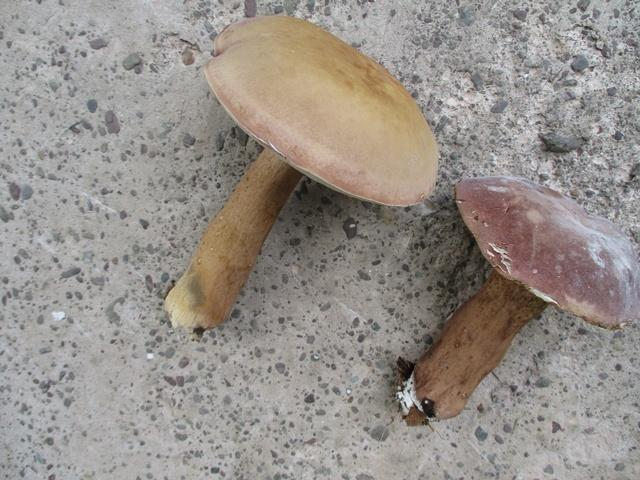Non-edible Mushroom: (162, 12, 440, 334), (393, 173, 638, 426)
